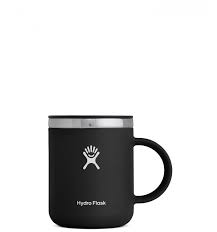mug: (33, 111, 185, 232)
